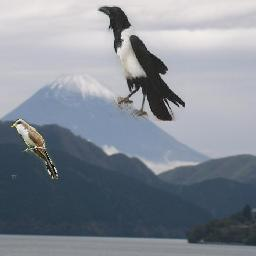Crow: (97, 5, 185, 121)
Cuckoo: (12, 119, 59, 179)
